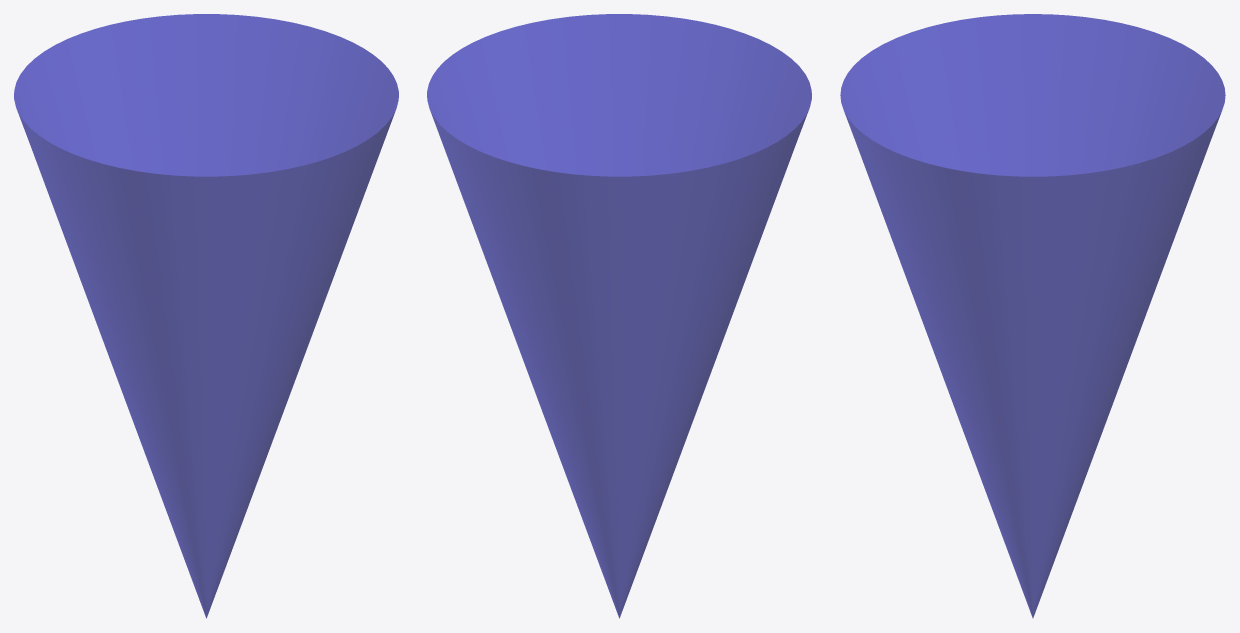
Rendered from punta.glb.
3 renders of one model, left to right at view 1: azimuth 30°, elevation 25°; view 2: azimuth 150°, elevation 25°; view 3: azimuth 270°, elevation 25°, orthographic.
Visible parts, largest first — view 1: Body1; view 2: Body1; view 3: Body1.
Part boxes in pixels (left/top/right/bottom): Body1: left=14, top=14, right=398, bottom=618; Body1: left=427, top=14, right=811, bottom=618; Body1: left=840, top=14, right=1225, bottom=618.
Size of the model in its own units: 1 by 1.5 by 1.
